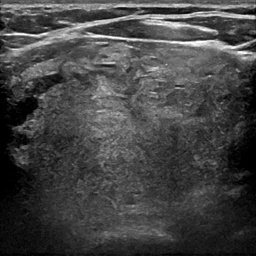mass: (12, 39, 254, 217)
